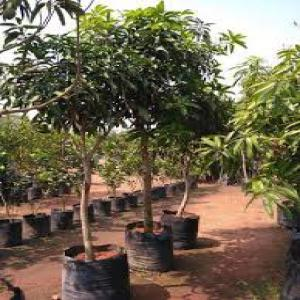Tree: (11, 15, 141, 299), (110, 3, 190, 270), (159, 15, 243, 250)
